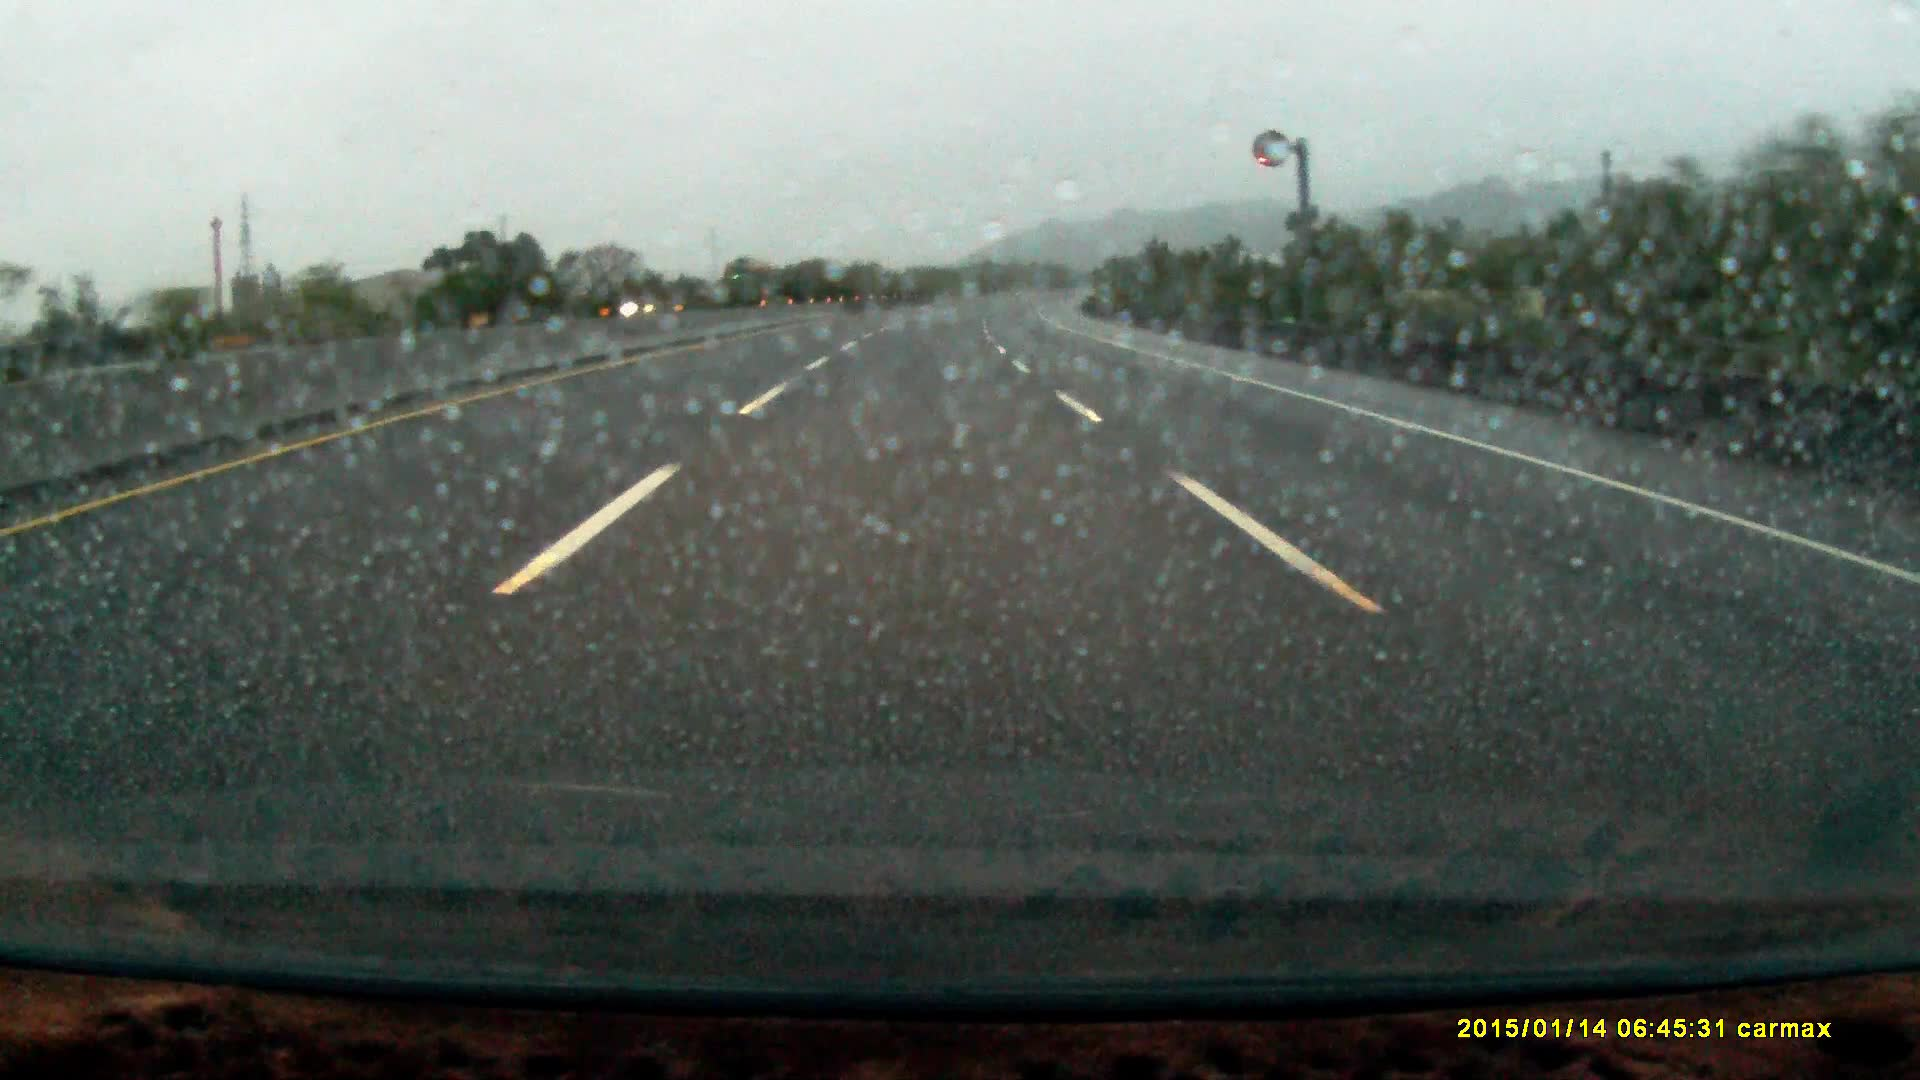vehicle: (716, 258, 764, 303), (621, 287, 675, 315)
